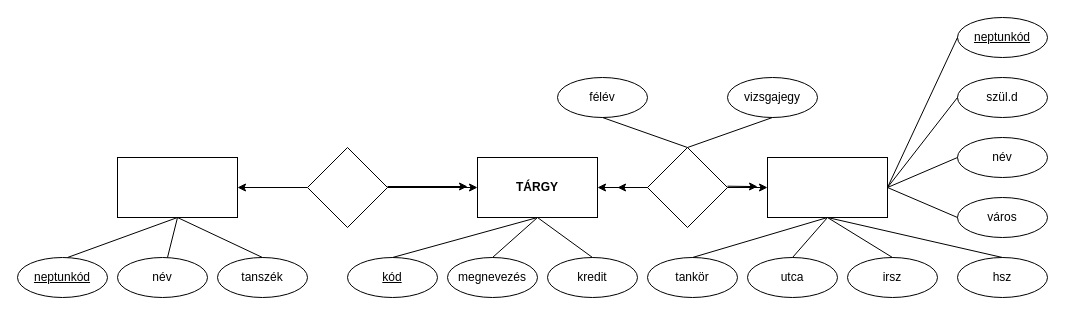
Some shapes in this 1065 by 315 pixel diagram are drawn without their labels. The centre of each missing label's shape, as x and y in pixels:
"Hallgat" belongs at (687,187).
"HALLGATÓ" belongs at (827,187).
"O-T" belongs at (347,187).
"OKTATÓ" belongs at (177,187).
